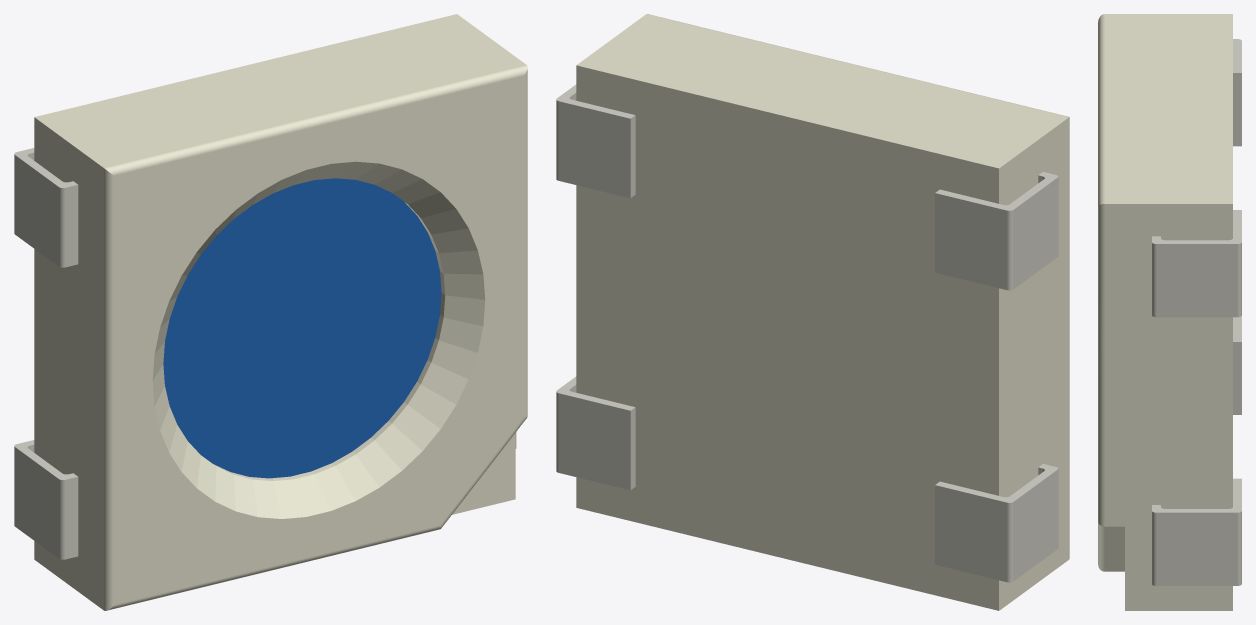
3 views of the same model, side by side, from view 1: azimuth 30°, elevation 25°; view 2: azimuth 150°, elevation 25°; view 3: azimuth 270°, elevation 25° (orthographic). The views are drawn at different scales.
Parts seen in each view (by area): view 1: g0-plastic, g1-plastic, g2-metal; view 2: g0-plastic, g2-metal; view 3: g0-plastic, g2-metal.
Part boxes in pixels (x1,y1,x2,y2): g0-plastic: [34, 14, 527, 610]; g1-plastic: [163, 178, 441, 478]; g2-metal: [14, 148, 516, 559]; g0-plastic: [576, 14, 1069, 610]; g2-metal: [556, 84, 1058, 582]; g0-plastic: [1098, 14, 1232, 610]; g2-metal: [1152, 39, 1241, 585].
Size of the model in its own units: 5.4 by 5 by 1.6.
